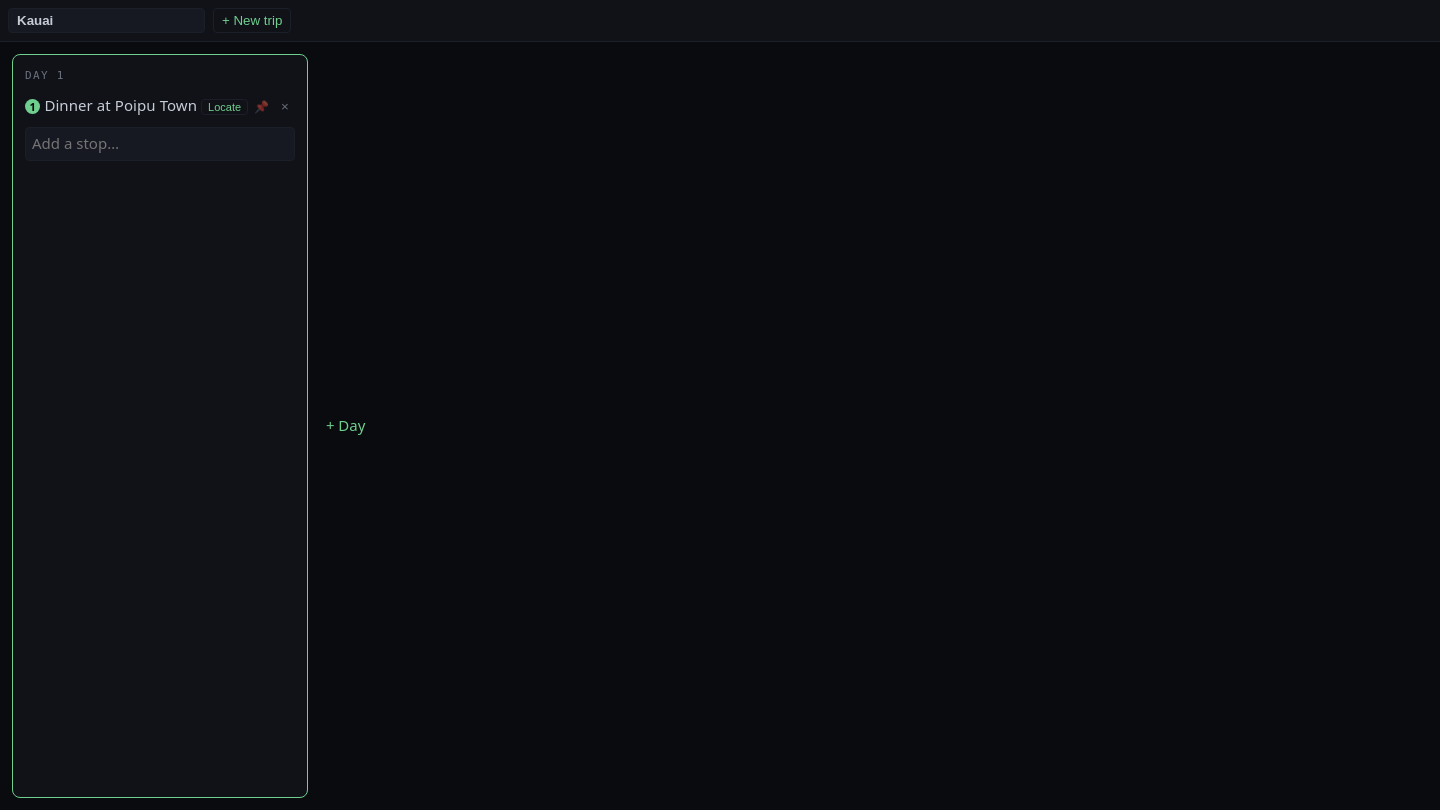
Test: day-list correlation › shows "Not found" when the locator resolves nothing (instead of silently no-op)
Click the button with aria-label "locate Dinner at Poipu Town". click: [225, 107]
box: x1=201 y1=99 x2=248 y2=115
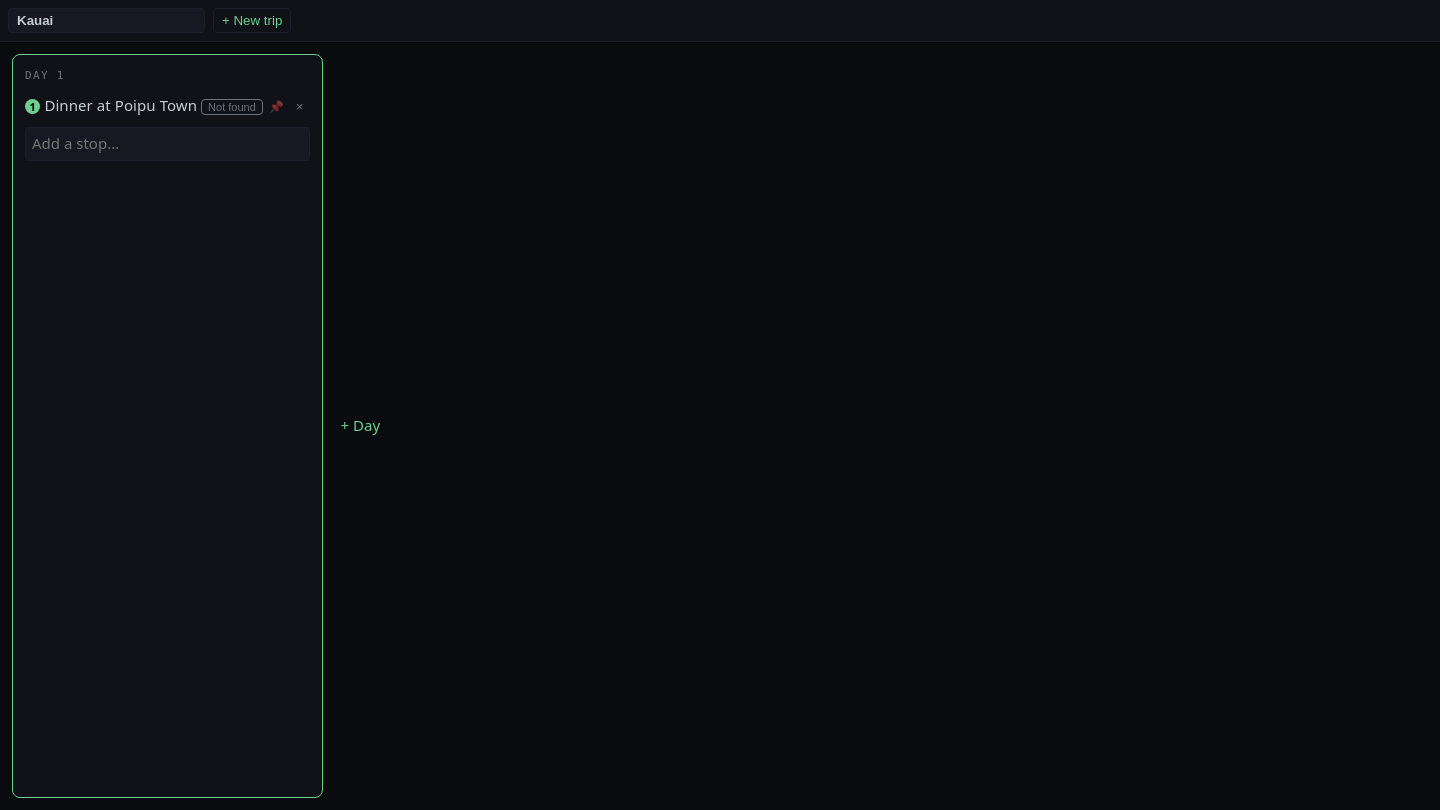
Now the button "Not found" is shown, box x1=201 y1=99 x2=263 y2=115
